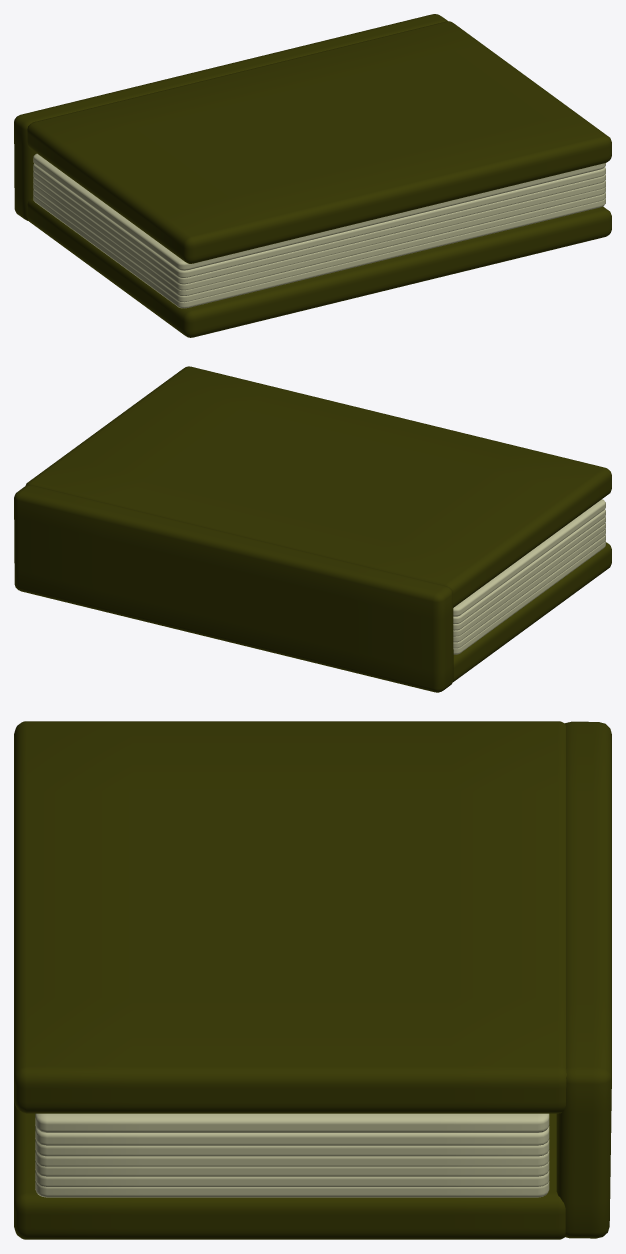
Rendered from book9.FBX.
The picture shows the model from 3 angles, top to bottom: view 1: azimuth 30°, elevation 25°; view 2: azimuth 150°, elevation 25°; view 3: azimuth 270°, elevation 25°; orthographic projection. The views are drawn at different scales.
Visible parts, largest first — view 1: ChamferBox003, ChamferBox002, ChamferBox001, ChamferBox008, ChamferBox010, ChamferBox009, ChamferBox004, ChamferBox006, ChamferBox005, ChamferBox007; view 2: ChamferBox003, ChamferBox001, ChamferBox002, ChamferBox010, ChamferBox008, ChamferBox009, ChamferBox006, ChamferBox005, ChamferBox004, ChamferBox007; view 3: ChamferBox003, ChamferBox002, ChamferBox001, ChamferBox010, ChamferBox008, ChamferBox009, ChamferBox005, ChamferBox006, ChamferBox004, ChamferBox007.
Boxes of the visible parts, x1=… form: ChamferBox003: x1=27, y1=21, x2=611, y2=263; ChamferBox002: x1=27, y1=198, x2=611, y2=337; ChamferBox001: x1=14, y1=14, x2=447, y2=220; ChamferBox008: x1=33, y1=164, x2=605, y2=277; ChamferBox010: x1=33, y1=153, x2=605, y2=270; ChamferBox009: x1=33, y1=171, x2=605, y2=284; ChamferBox004: x1=33, y1=195, x2=605, y2=308; ChamferBox006: x1=33, y1=177, x2=605, y2=290; ChamferBox005: x1=33, y1=189, x2=605, y2=302; ChamferBox007: x1=33, y1=183, x2=605, y2=295; ChamferBox003: x1=25, y1=366, x2=611, y2=607; ChamferBox001: x1=14, y1=485, x2=453, y2=692; ChamferBox002: x1=453, y1=542, x2=611, y2=681; ChamferBox010: x1=453, y1=499, x2=605, y2=616; ChamferBox008: x1=453, y1=509, x2=605, y2=623; ChamferBox009: x1=453, y1=516, x2=605, y2=630; ChamferBox006: x1=453, y1=523, x2=605, y2=636; ChamferBox005: x1=453, y1=534, x2=605, y2=648; ChamferBox004: x1=453, y1=540, x2=605, y2=654; ChamferBox007: x1=453, y1=529, x2=605, y2=642; ChamferBox003: x1=14, y1=721, x2=566, y2=1113; ChamferBox002: x1=14, y1=1101, x2=565, y2=1239; ChamferBox001: x1=556, y1=721, x2=611, y2=1238; ChamferBox010: x1=35, y1=1113, x2=549, y2=1132; ChamferBox008: x1=35, y1=1126, x2=549, y2=1145; ChamferBox009: x1=35, y1=1139, x2=549, y2=1156; ChamferBox005: x1=35, y1=1170, x2=549, y2=1186; ChamferBox006: x1=35, y1=1150, x2=549, y2=1166; ChamferBox004: x1=35, y1=1181, x2=549, y2=1197; ChamferBox007: x1=35, y1=1160, x2=549, y2=1176.
Size of the model in its own units: 15.48 by 3.47 by 10.95.
